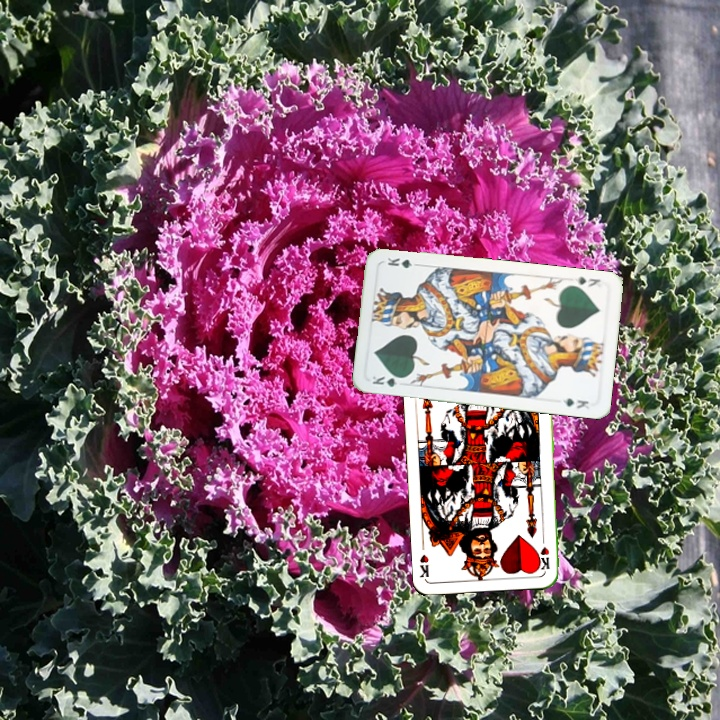GK: (368, 371, 408, 390), (570, 273, 603, 289)
HK: (536, 532, 552, 572)
